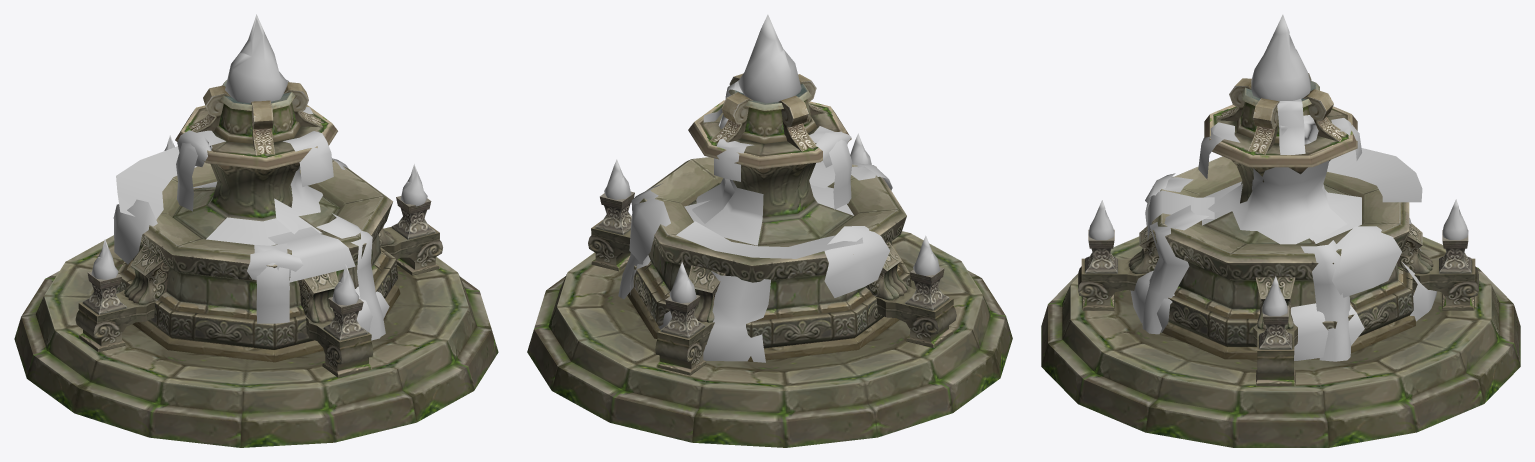
File: stone_protection.FBX
The picture shows the model from 3 angles, left to right: view 1: azimuth 30°, elevation 25°; view 2: azimuth 150°, elevation 25°; view 3: azimuth 270°, elevation 25°; orthographic projection.
Visible parts, largest first — view 1: Stone_Protection; view 2: Stone_Protection; view 3: Stone_Protection.
Part boxes in pixels (x1,y1,x2,y2): Stone_Protection: (14,14,498,447); Stone_Protection: (527,14,1012,447); Stone_Protection: (1041,14,1520,447).
Size of the model in its own units: 1152 by 883 by 1152.
